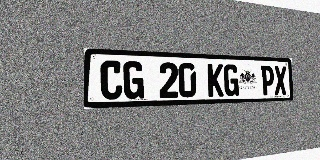0: (178, 63, 196, 98)
2: (159, 62, 178, 98)
C: (100, 60, 122, 100)
G: (123, 61, 144, 99), (224, 64, 239, 96)
K: (207, 64, 224, 97)
P: (261, 65, 274, 95)
X: (274, 66, 287, 95)
